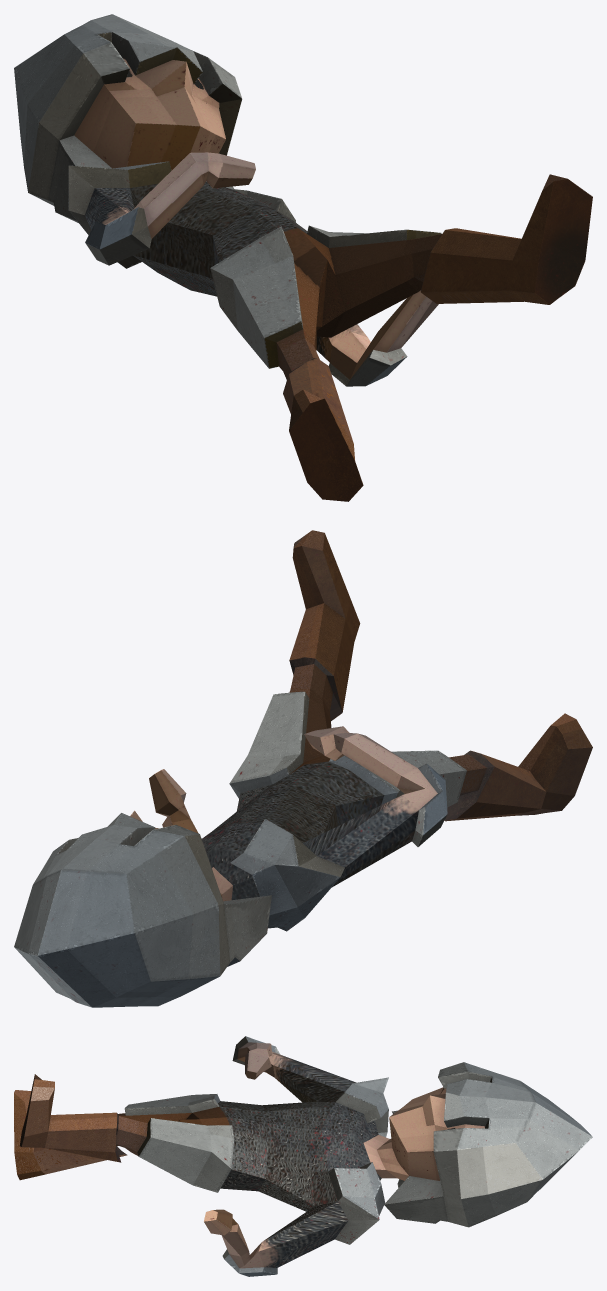
File: Walk_Soldier_14.obj
3 views of the same model, one above another, from view 1: azimuth 30°, elevation 25°; view 2: azimuth 150°, elevation 25°; view 3: azimuth 270°, elevation 25° (orthographic). The views are drawn at different scales.
Parts seen in each view (by area): view 1: Soldado_LowPolySTD; view 2: Soldado_LowPolySTD; view 3: Soldado_LowPolySTD.
Boxes of the visible parts, <box> form: Soldado_LowPolySTD: <box>14,14,592,501</box>; Soldado_LowPolySTD: <box>14,530,592,1007</box>; Soldado_LowPolySTD: <box>14,1036,592,1276</box>.
Bounding box in the file's own units: 0.7672 × 0.646 × 1.58.
